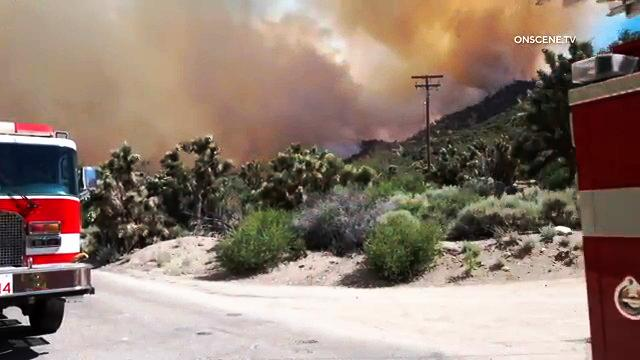smoke: (209, 4, 347, 96)
